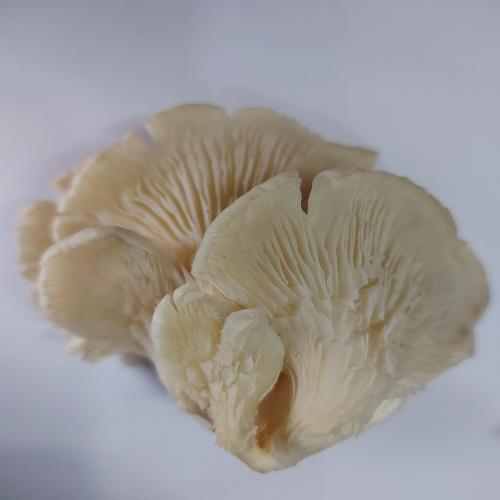Oyster Mushroom: (148, 165, 491, 474), (17, 102, 378, 366)
